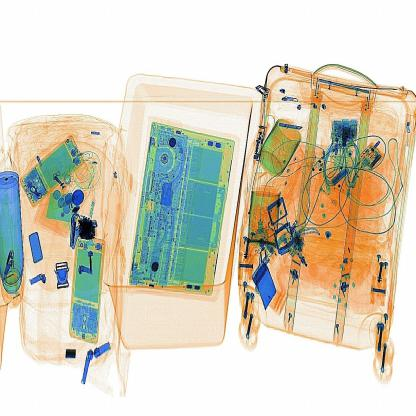scissors: (74, 209, 103, 250)
